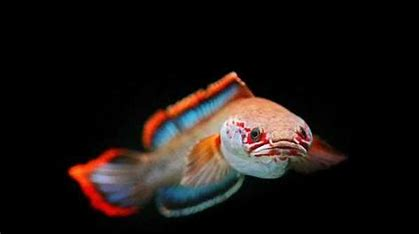Fish: (30, 62, 342, 221)
